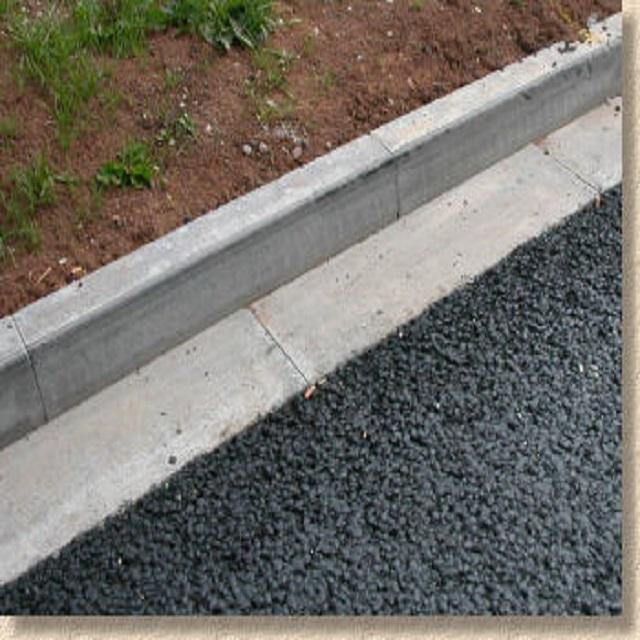curb: (7, 247, 194, 450), (451, 22, 612, 160), (177, 192, 338, 315), (307, 101, 462, 223)
